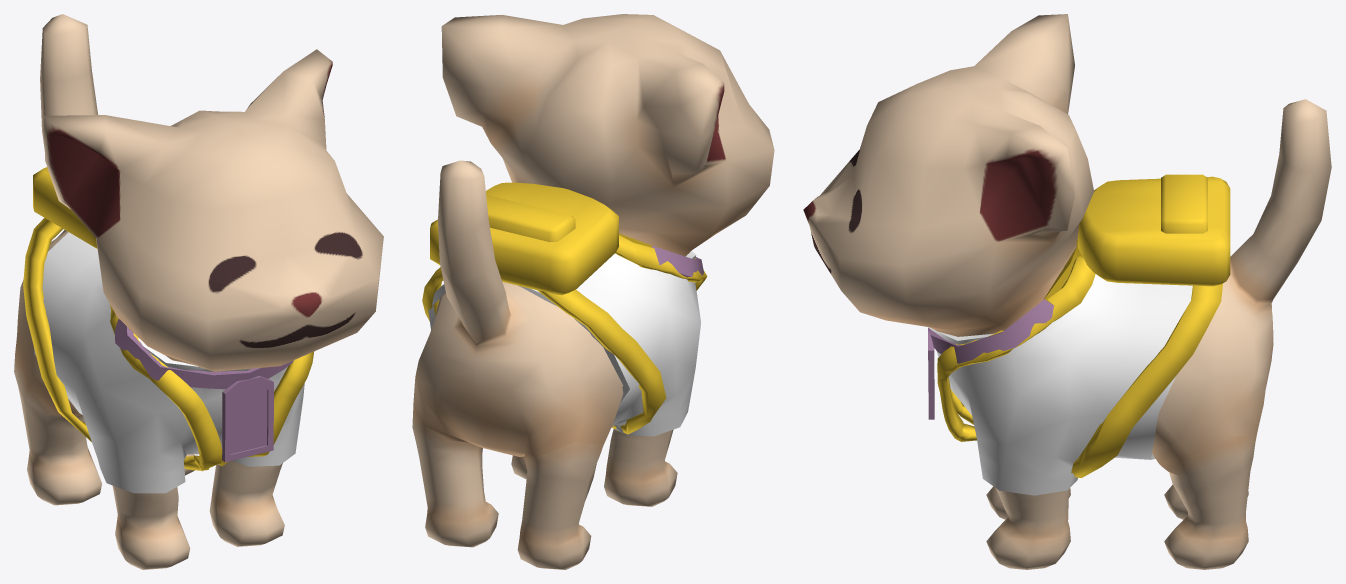
The model's file is Student Cat03_01.fbx.
3 renders of one model, left to right at view 1: azimuth 30°, elevation 25°; view 2: azimuth 150°, elevation 25°; view 3: azimuth 270°, elevation 25°, orthographic. The views are drawn at different scales.
Parts seen in each view (by area): view 1: Cat_Base, tshirt, Backpack, id; view 2: Cat_Base, Backpack, tshirt, id; view 3: Cat_Base, tshirt, Backpack, id.
Boxes of the visible parts, x1=… form: Cat_Base: x1=14, y1=14, x2=383, y2=569; tshirt: x1=34, y1=232, x2=304, y2=493; Backpack: x1=23, y1=167, x2=313, y2=471; id: x1=114, y1=318, x2=293, y2=462; Cat_Base: x1=412, y1=14, x2=774, y2=569; Backpack: x1=422, y1=182, x2=707, y2=434; tshirt: x1=428, y1=251, x2=700, y2=436; id: x1=619, y1=233, x2=703, y2=277; Cat_Base: x1=803, y1=14, x2=1331, y2=569; tshirt: x1=928, y1=274, x2=1192, y2=495; Backpack: x1=937, y1=174, x2=1230, y2=477; id: x1=928, y1=239, x2=1081, y2=419.
Size of the model in its own units: 1.75 by 2.83 by 2.68.
Materials: 5 (1 with a texture image).
